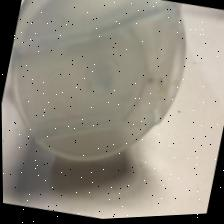plastic: (0, 0, 198, 182)
